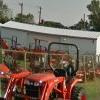Tractor: (7, 41, 92, 100)
